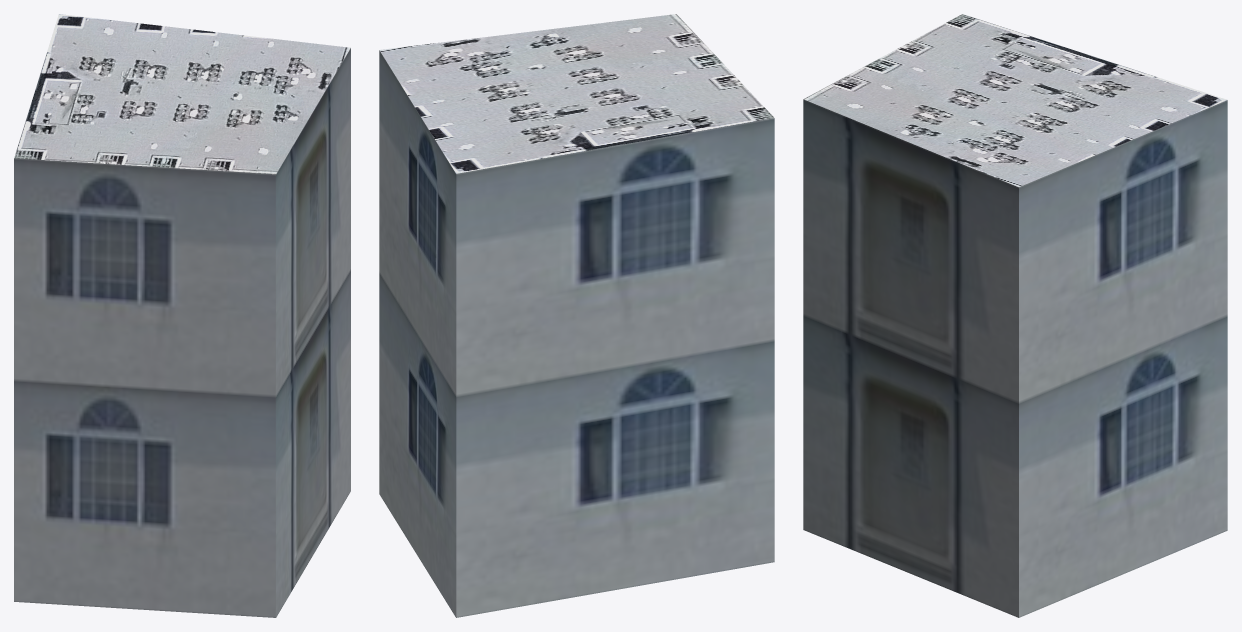
Rendered from ResTex__1296.fbx.
The picture shows the model from 3 angles, left to right: view 1: azimuth 30°, elevation 25°; view 2: azimuth 150°, elevation 25°; view 3: azimuth 270°, elevation 25°; orthographic projection. The views are drawn at different scales.
Parts seen in each view (by area): view 1: CityEngineMaterial_17_m, CityEngineMaterial_4_m; view 2: CityEngineMaterial_17_m, CityEngineMaterial_4_m; view 3: CityEngineMaterial_17_m, CityEngineMaterial_4_m.
Boxes of the visible parts, x1,y1,x2,y2 form: CityEngineMaterial_17_m: (14, 48, 350, 617); CityEngineMaterial_4_m: (14, 14, 350, 174); CityEngineMaterial_17_m: (379, 50, 774, 617); CityEngineMaterial_4_m: (379, 14, 773, 173); CityEngineMaterial_17_m: (803, 99, 1227, 617); CityEngineMaterial_4_m: (803, 14, 1226, 187).
Size of the model in its own units: 5.18 by 6 by 5.36.
2 materials, 2 textured.
